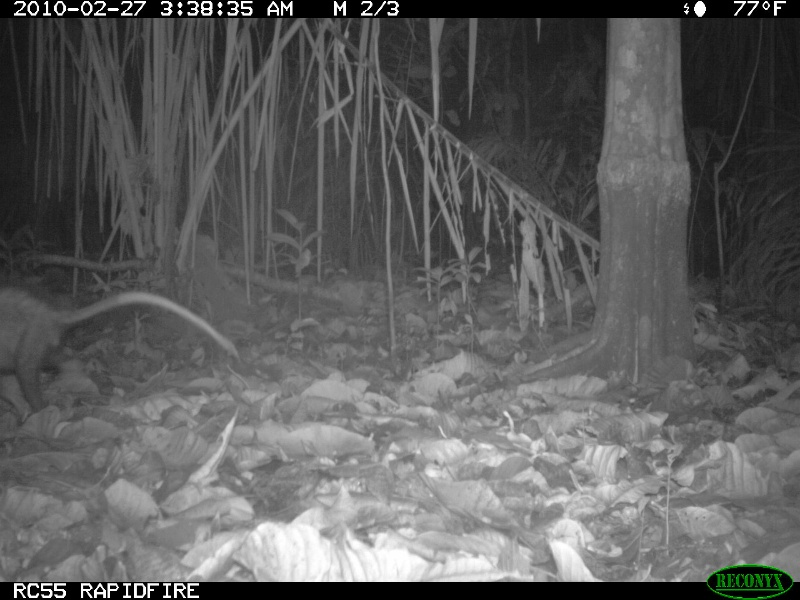opossum: (1, 276, 248, 413)
